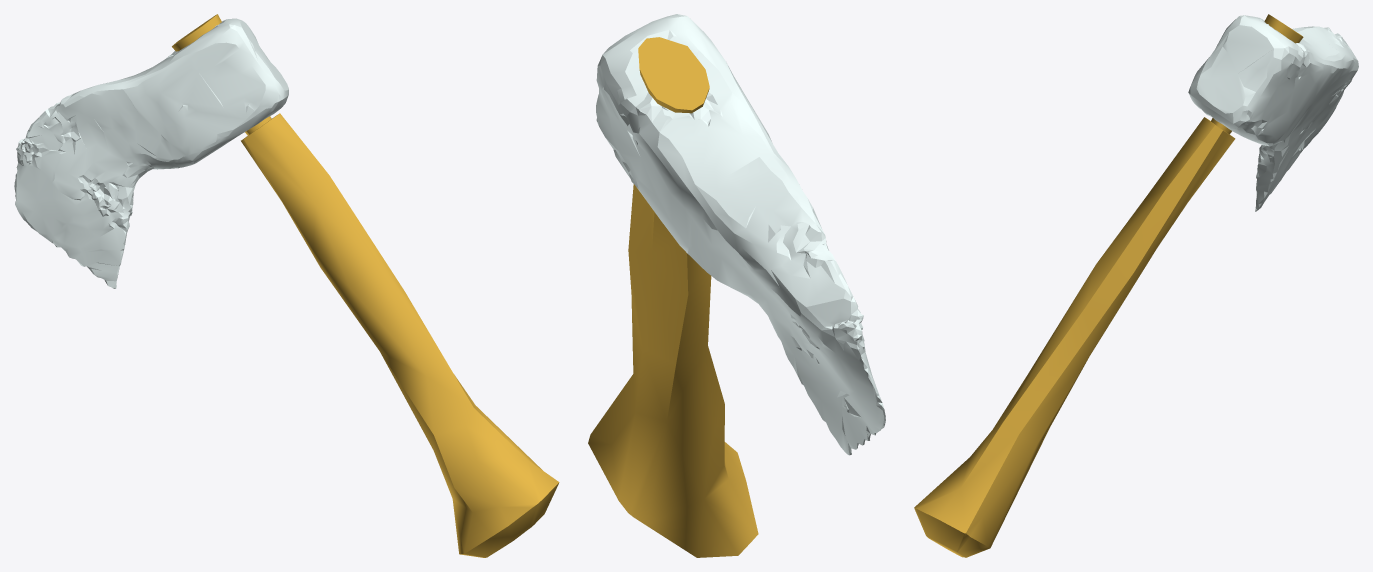
File: axe-iron-76.glb
3 renders of one model, left to right at view 1: azimuth 30°, elevation 25°; view 2: azimuth 150°, elevation 25°; view 3: azimuth 270°, elevation 25°, orthographic. The views are drawn at different scales.
Visible parts, largest first — view 1: iron-axe-head, iron-axe; view 2: iron-axe-head, iron-axe; view 3: iron-axe, iron-axe-head.
Part boxes in pixels (<box>): iron-axe-head: <box>14,18,288,288</box>; iron-axe: <box>172,14,559,557</box>; iron-axe-head: <box>596,14,885,455</box>; iron-axe: <box>588,37,758,557</box>; iron-axe: <box>914,14,1303,557</box>; iron-axe-head: <box>1188,15,1358,211</box>.
Bounding box in the file's own units: 0.7069 × 0.8645 × 0.7254.
